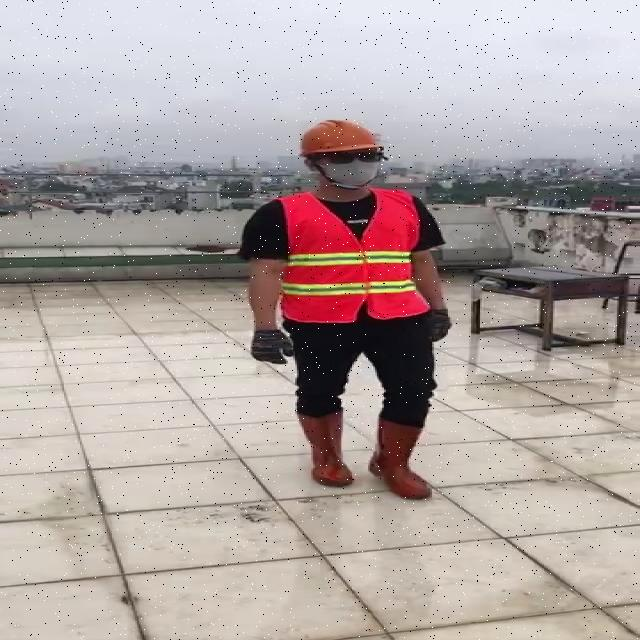Hard_hat: (295, 117, 391, 164)
Vest: (274, 184, 419, 322)
